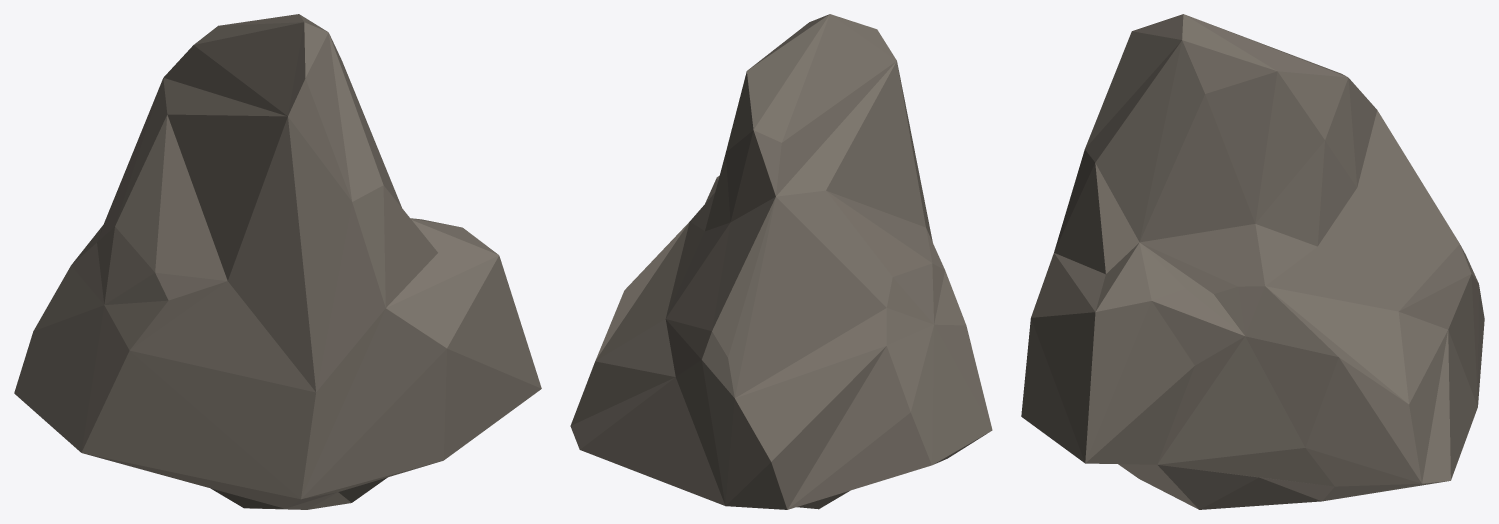
The model's file is SM_Env_Rock_02.glb.
3 views of the same model, side by side, from view 1: azimuth 30°, elevation 25°; view 2: azimuth 150°, elevation 25°; view 3: azimuth 270°, elevation 25° (orthographic). The views are drawn at different scales.
Parts seen in each view (by area): view 1: SM_Env_Rock_02_part00; view 2: SM_Env_Rock_02_part00; view 3: SM_Env_Rock_02_part00.
Boxes of the visible parts, x1,y1,x2,y2 form: SM_Env_Rock_02_part00: (14,14,541,509); SM_Env_Rock_02_part00: (570,14,992,509); SM_Env_Rock_02_part00: (1021,14,1484,509).
Bounding box in the file's own units: 1.83 × 2.24 × 1.96.
1 material, 1 textured.
